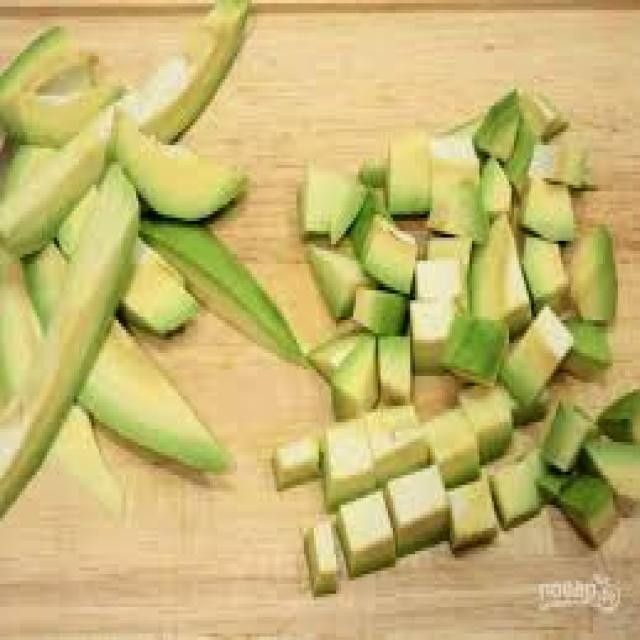avocado: (257, 82, 640, 614), (3, 9, 297, 564)
